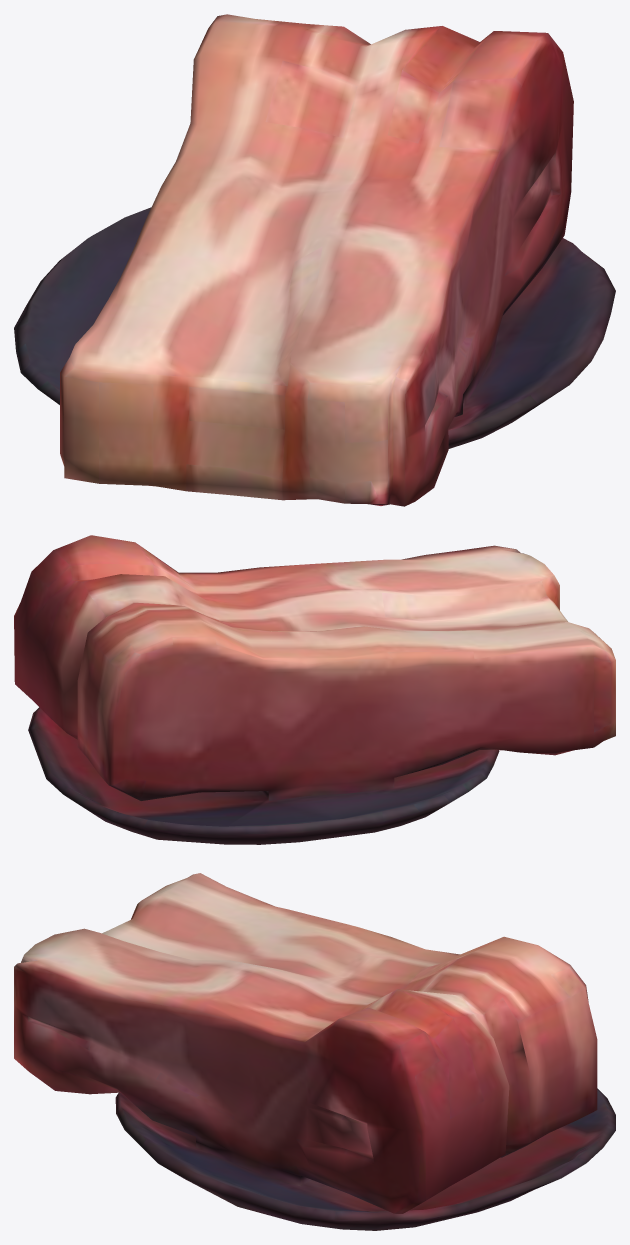
Rendered from lamb.glb.
3 renders of one model, top to bottom at view 1: azimuth 30°, elevation 25°; view 2: azimuth 150°, elevation 25°; view 3: azimuth 270°, elevation 25°, orthographic. The views are drawn at different scales.
Parts seen in each view (by area): view 1: Lamb; view 2: Lamb; view 3: Lamb.
Boxes of the visible parts, box(x1,y1,x2,y2) form: Lamb: box(14, 14, 615, 506); Lamb: box(14, 535, 615, 844); Lamb: box(14, 873, 615, 1230).
Bounding box in the file's own units: 1.84 × 0.6864 × 1.82.
Materials: 1 (1 with a texture image).
